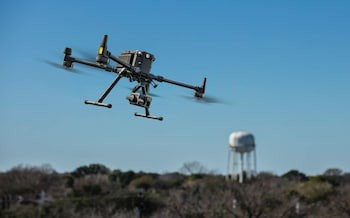maybay_khongnguoilai: (50, 32, 207, 118)
